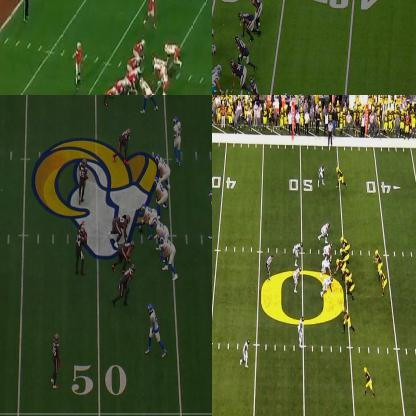CENTER: (212, 61, 225, 94), (139, 201, 152, 229), (128, 67, 138, 94), (334, 258, 346, 276)
DB: (53, 330, 61, 387), (242, 340, 250, 366), (319, 165, 324, 186), (103, 95, 112, 104)
LB: (236, 35, 252, 65), (78, 160, 88, 204), (76, 226, 86, 270), (250, 0, 263, 28), (159, 66, 170, 94), (297, 316, 305, 346), (140, 79, 155, 94), (293, 241, 302, 264), (294, 265, 301, 291), (249, 78, 260, 94), (320, 222, 329, 241)
QB: (74, 43, 82, 83), (375, 248, 382, 275), (208, 189, 211, 238)
SKILL: (147, 302, 163, 354), (172, 116, 181, 164), (341, 304, 354, 332), (144, 0, 158, 25), (364, 366, 374, 396), (142, 95, 158, 109), (379, 270, 387, 294), (337, 166, 346, 186)
